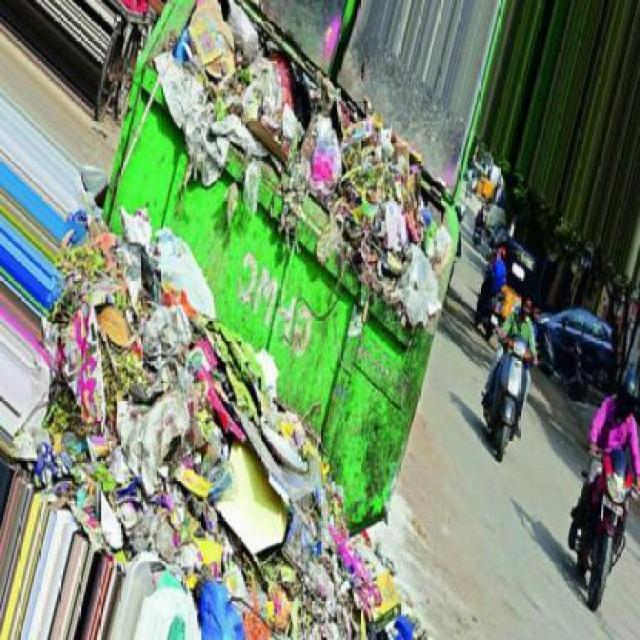garbage: (54, 189, 443, 639), (163, 5, 450, 229)
